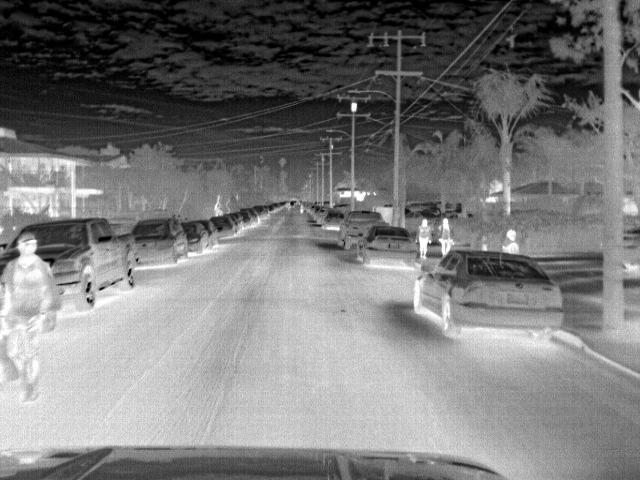car: (409, 246, 568, 345), (37, 216, 137, 306), (127, 219, 190, 268), (358, 221, 416, 268), (338, 207, 384, 250), (181, 223, 208, 252), (205, 216, 234, 237), (320, 209, 346, 232), (225, 212, 243, 230), (240, 207, 258, 223), (238, 210, 252, 225)
person: (1, 230, 60, 398), (413, 216, 433, 260), (436, 218, 454, 262), (500, 226, 521, 257)
